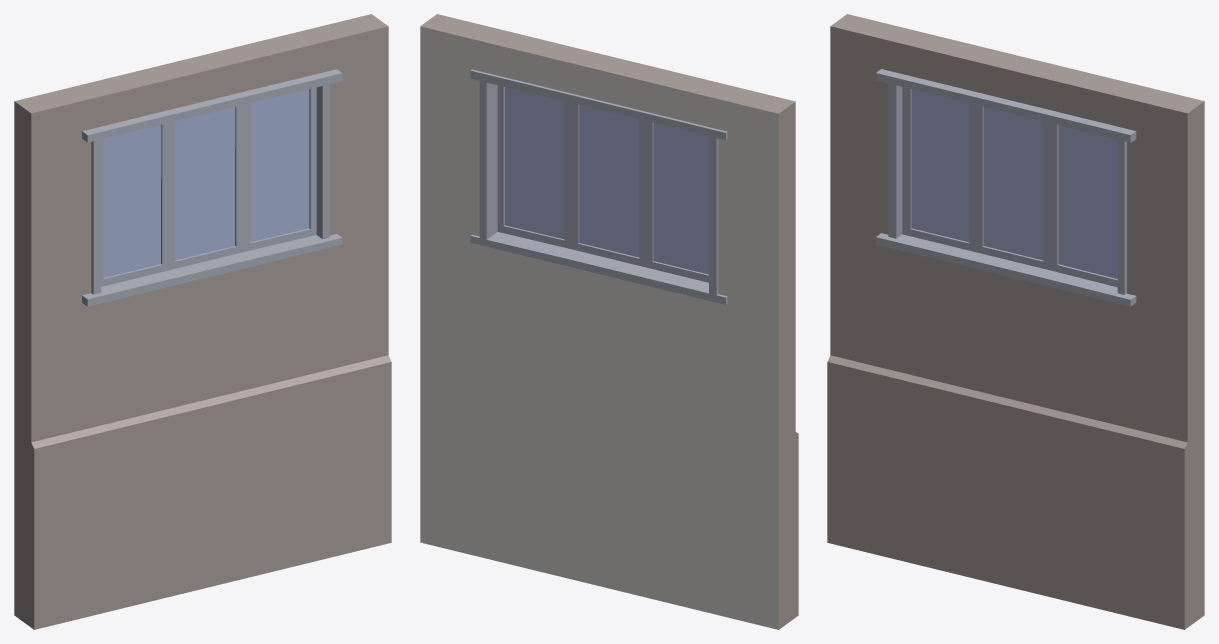
File: Front_wall_1st_floor_type2.FBX
3 views of the same model, side by side, from view 1: azimuth 30°, elevation 25°; view 2: azimuth 150°, elevation 25°; view 3: azimuth 330°, elevation 25° (orthographic).
Visible parts, largest first — view 1: Front_wall_1st_floor_type2_002; view 2: Front_wall_1st_floor_type2_002; view 3: Front_wall_1st_floor_type2_002.
Boxes of the visible parts, <box> form: Front_wall_1st_floor_type2_002: <box>14,14,391,629</box>; Front_wall_1st_floor_type2_002: <box>420,14,798,629</box>; Front_wall_1st_floor_type2_002: <box>827,14,1204,629</box>.
Bounding box in the file's own units: 809 × 1113 × 94.35.
1 material, 1 textured.
